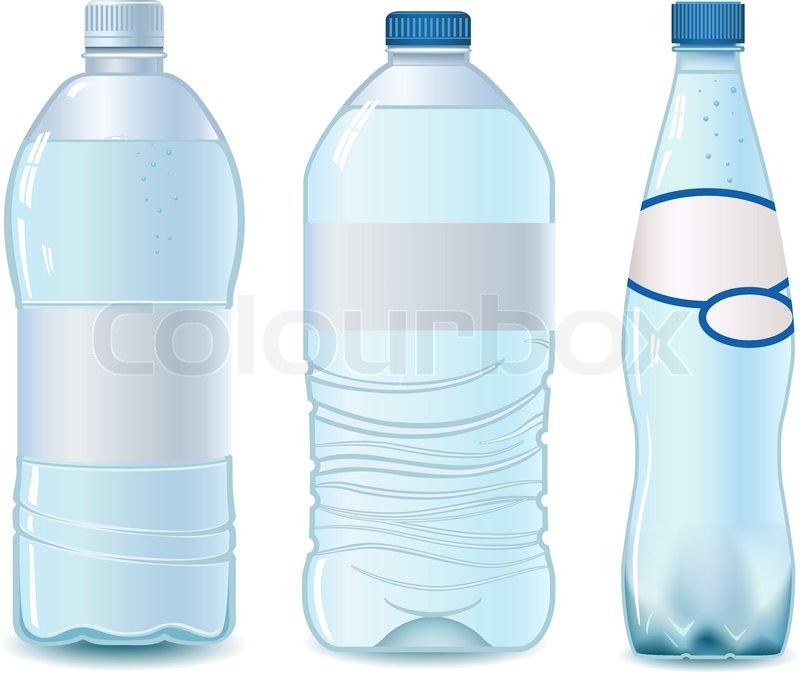emptybottle: (303, 12, 554, 655), (5, 1, 234, 646), (623, 3, 792, 656)
